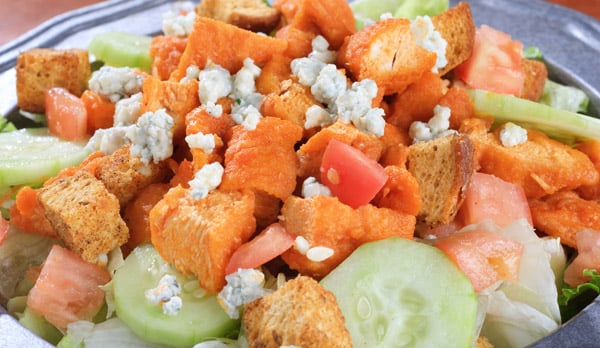pizza: (43, 87, 115, 142)
